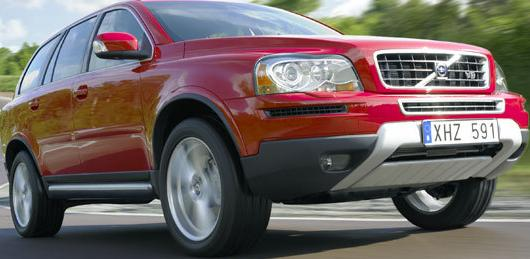front_view: (240, 41, 525, 218)
headlight: (248, 46, 374, 99)
side_glass: (13, 10, 157, 79)
